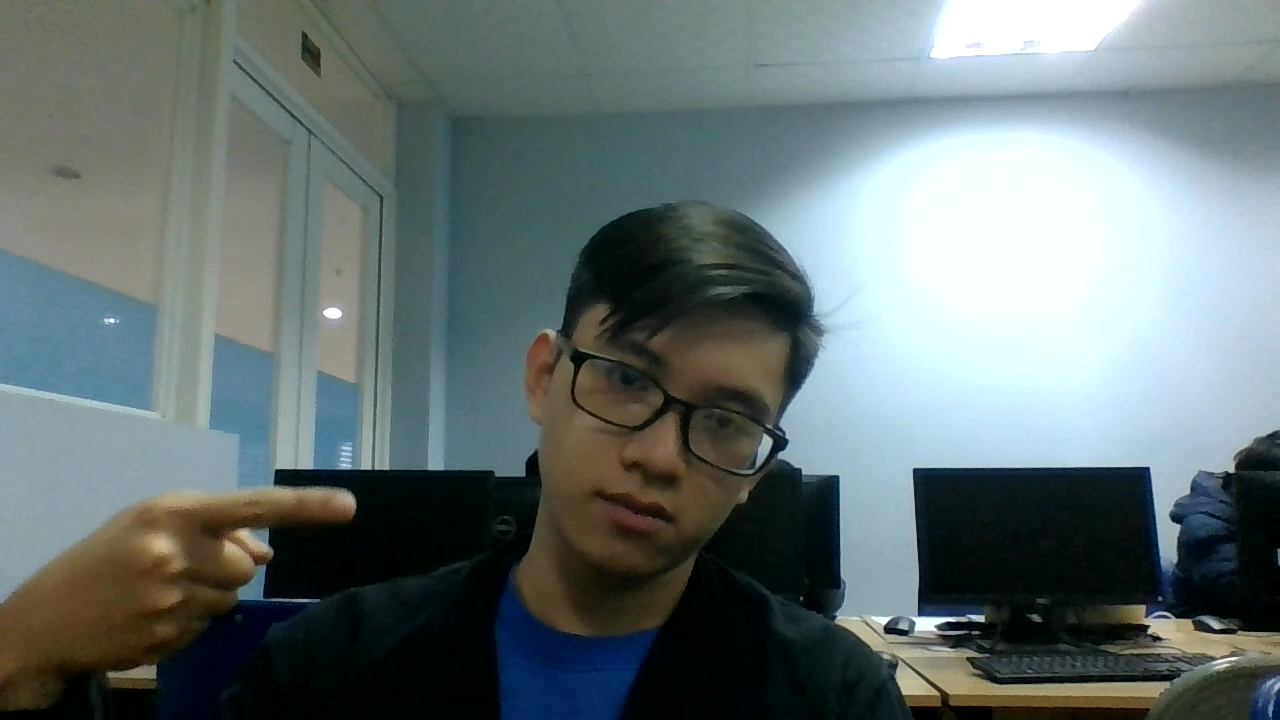left: (25, 483, 363, 661)
